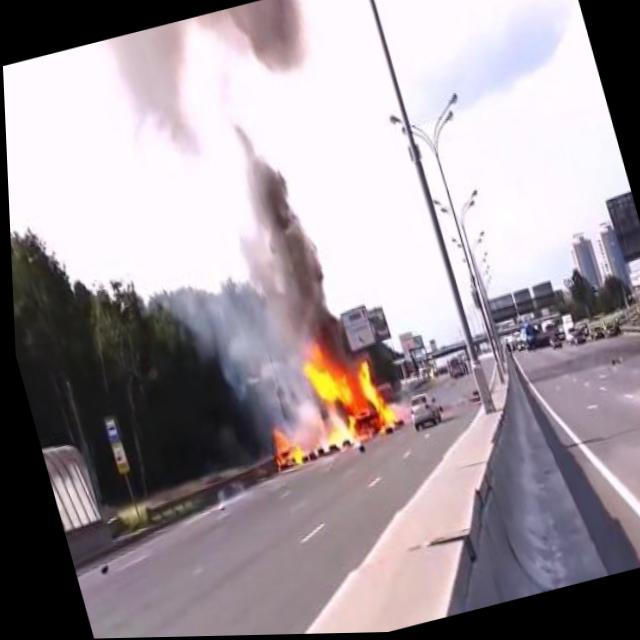fire: (286, 335, 401, 456), (255, 418, 306, 476)
